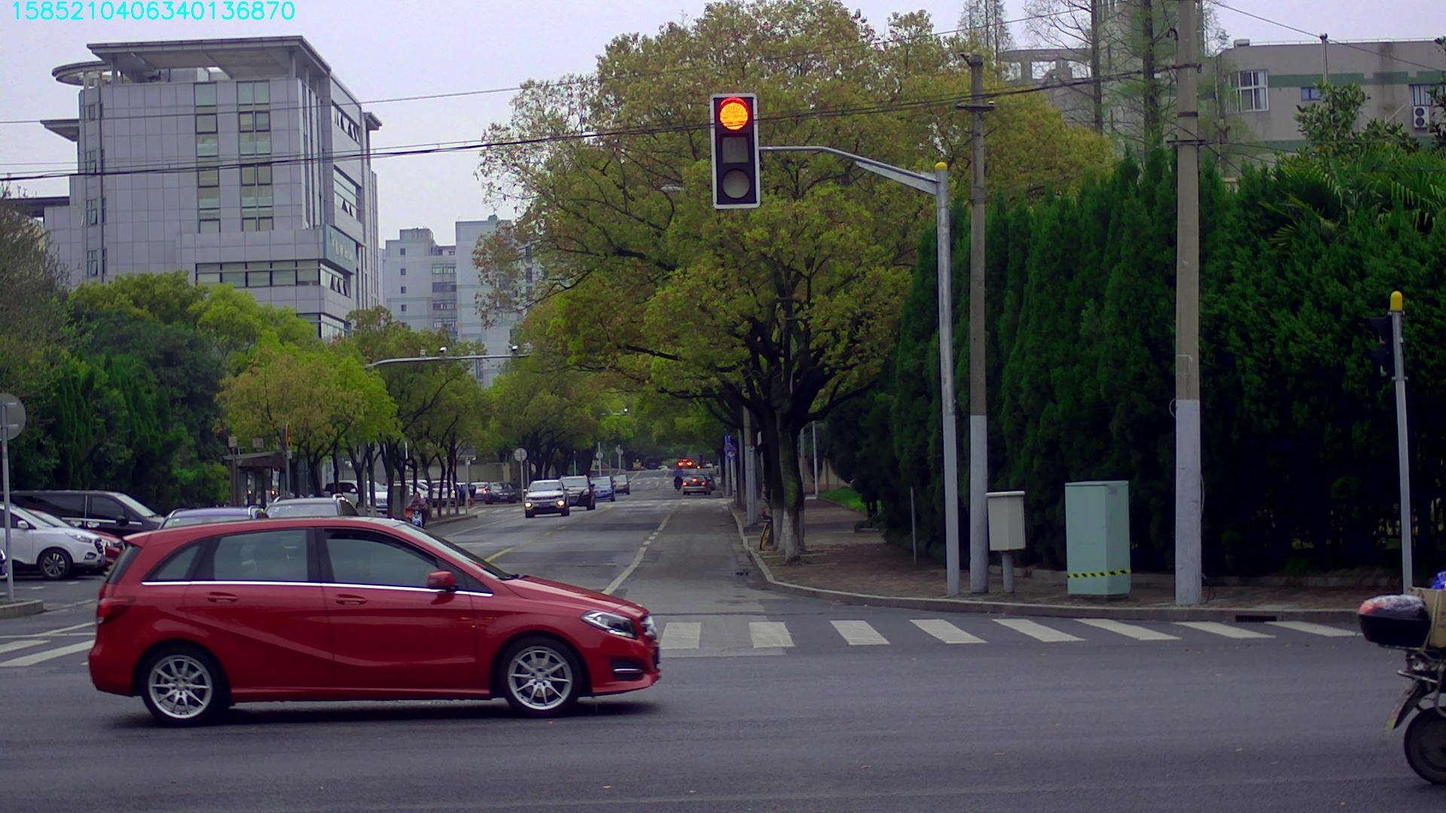red: (713, 96, 757, 206)
